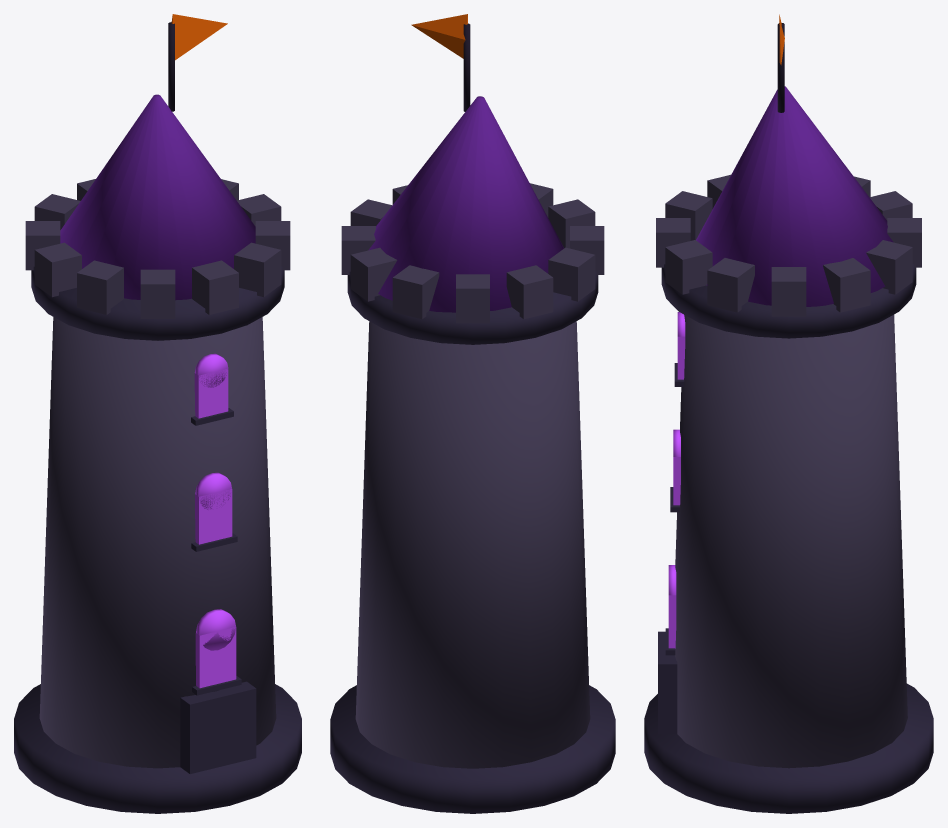
The model's file is P_CastleTower.fbx.
3 views of the same model, side by side, from view 1: azimuth 30°, elevation 25°; view 2: azimuth 150°, elevation 25°; view 3: azimuth 270°, elevation 25° (orthographic).
Parts seen in each view (by area): view 1: P_CastleTower__Stone, P_CastleTower__StoneDark, P_CastleTower__Roof, P_CastleTower__Window, P_CastleTower__Flag, P_CastleTower__Pole; view 2: P_CastleTower__Stone, P_CastleTower__StoneDark, P_CastleTower__Roof, P_CastleTower__Flag, P_CastleTower__Pole; view 3: P_CastleTower__Stone, P_CastleTower__StoneDark, P_CastleTower__Roof, P_CastleTower__Window, P_CastleTower__Pole.
Boxes of the visible parts, x1=… form: P_CastleTower__Stone: x1=25, y1=179, x2=290, y2=768; P_CastleTower__StoneDark: x1=14, y1=266, x2=301, y2=813; P_CastleTower__Roof: x1=60, y1=94, x2=255, y2=300; P_CastleTower__Window: x1=194, y1=353, x2=236, y2=688; P_CastleTower__Flag: x1=171, y1=14, x2=227, y2=60; P_CastleTower__Pole: x1=168, y1=22, x2=174, y2=111; P_CastleTower__Stone: x1=341, y1=183, x2=604, y2=768; P_CastleTower__StoneDark: x1=330, y1=271, x2=615, y2=813; P_CastleTower__Roof: x1=368, y1=96, x2=564, y2=312; P_CastleTower__Flag: x1=411, y1=14, x2=467, y2=58; P_CastleTower__Pole: x1=463, y1=23, x2=470, y2=111; P_CastleTower__Stone: x1=656, y1=174, x2=921, y2=768; P_CastleTower__StoneDark: x1=644, y1=264, x2=933, y2=813; P_CastleTower__Roof: x1=696, y1=86, x2=893, y2=306; P_CastleTower__Window: x1=668, y1=312, x2=685, y2=648; P_CastleTower__Pole: x1=777, y1=23, x2=784, y2=112.
Bounding box in the file's own units: 15 × 42.59 × 15.
